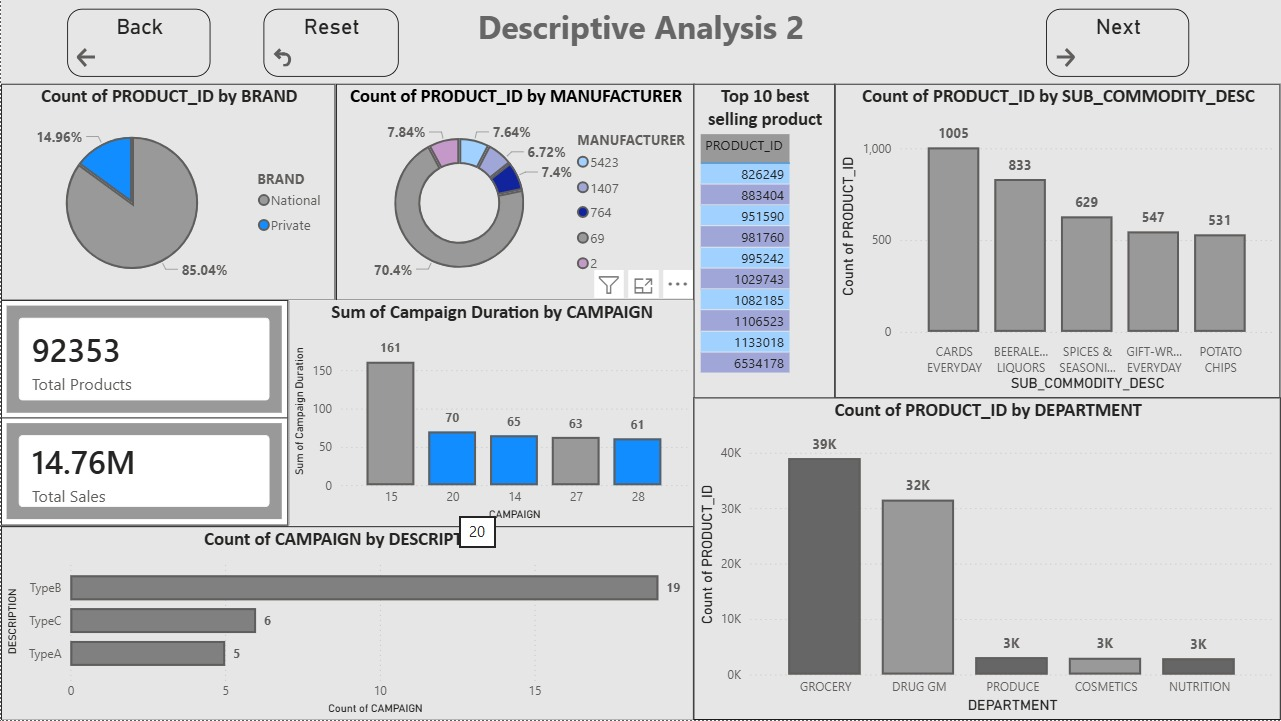

The dashboard page shown, as its layout file describes it:
{"tool":"powerbi","page":{"name":"Descriptive Analysis 2","canvas":[1280,720],"ordinal":6},"visuals":[{"type":"pieChart","fields":{"Category":["product.BRAND"],"Y":["CountNonNull(product.PRODUCT_ID)"]},"box":[0,83.3,334.7,216.7],"z":0},{"type":"donutChart","fields":{"Category":["product.MANUFACTURER"],"Y":["CountNonNull(product.PRODUCT_ID)"]},"box":[334.7,83.3,358.3,216.7],"z":1000},{"type":"cardVisual","fields":{"Data":["Transaction.Total Products"]},"box":[0,300,287.5,119.4],"z":2000},{"type":"cardVisual","fields":{"Data":["KPI.Total Sales"]},"box":[0,418.1,287.5,108.3],"z":3000},{"type":"barChart","fields":{"Category":["campaign_desc.DESCRIPTION"],"Y":["CountNonNull(campaign_desc.CAMPAIGN)"]},"box":[0,525.7,692.9,194.3],"z":4000},{"type":"tableEx","title":"Top 10 best  selling product","fields":{"Values":["Transaction.PRODUCT_ID"]},"box":[693.1,83.3,141.7,315.3],"z":5000},{"type":"clusteredColumnChart","fields":{"Category":["campaign_desc.CAMPAIGN"],"Y":["Sum(campaign_desc.Campaign Duration)"]},"box":[287.5,300,405.6,226.4],"z":6000},{"type":"clusteredColumnChart","fields":{"Category":["product.SUB_COMMODITY_DESC"],"Y":["CountNonNull(product.PRODUCT_ID)"]},"box":[834.3,84.3,445.7,314.3],"z":7000},{"type":"clusteredColumnChart","fields":{"Category":["product.DEPARTMENT"],"Y":["CountNonNull(product.PRODUCT_ID)"]},"box":[693.1,397.2,587.5,322.2],"z":8000},{"type":"textbox","box":[0,0,1280,82.9],"z":9000},{"type":"actionButton","title":"Next","box":[1045,8.3,143.3,68.3],"z":10000},{"type":"actionButton","title":"Back","box":[66.7,8.3,143.3,68.3],"z":11000},{"type":"actionButton","title":"Reset","box":[263,8.3,135,68.2],"z":11001}]}

Visuals, with their boxes in screenshot pixels (x1, y1, x2, y2), scaled from the page's 1280x720 canvas onto the 1281x721 screenshot:
pieChart - product.BRAND x CountNonNull(product.PRODUCT_ID): (x1=0, y1=83, x2=335, y2=300)
donutChart - product.MANUFACTURER x CountNonNull(product.PRODUCT_ID): (x1=335, y1=83, x2=694, y2=300)
cardVisual - Transaction.Total Products: (x1=0, y1=300, x2=288, y2=420)
cardVisual - KPI.Total Sales: (x1=0, y1=419, x2=288, y2=527)
barChart - campaign_desc.DESCRIPTION x CountNonNull(campaign_desc.CAMPAIGN): (x1=0, y1=526, x2=693, y2=720)
"Top 10 best  selling product" tableEx: (x1=694, y1=83, x2=835, y2=399)
clusteredColumnChart - campaign_desc.CAMPAIGN x Sum(campaign_desc.Campaign Duration): (x1=288, y1=300, x2=694, y2=527)
clusteredColumnChart - product.SUB_COMMODITY_DESC x CountNonNull(product.PRODUCT_ID): (x1=835, y1=84, x2=1280, y2=399)
clusteredColumnChart - product.DEPARTMENT x CountNonNull(product.PRODUCT_ID): (x1=694, y1=398, x2=1280, y2=720)
textbox: (x1=0, y1=0, x2=1280, y2=83)
"Next" actionButton: (x1=1046, y1=8, x2=1189, y2=77)
"Back" actionButton: (x1=67, y1=8, x2=210, y2=77)
"Reset" actionButton: (x1=263, y1=8, x2=398, y2=77)
